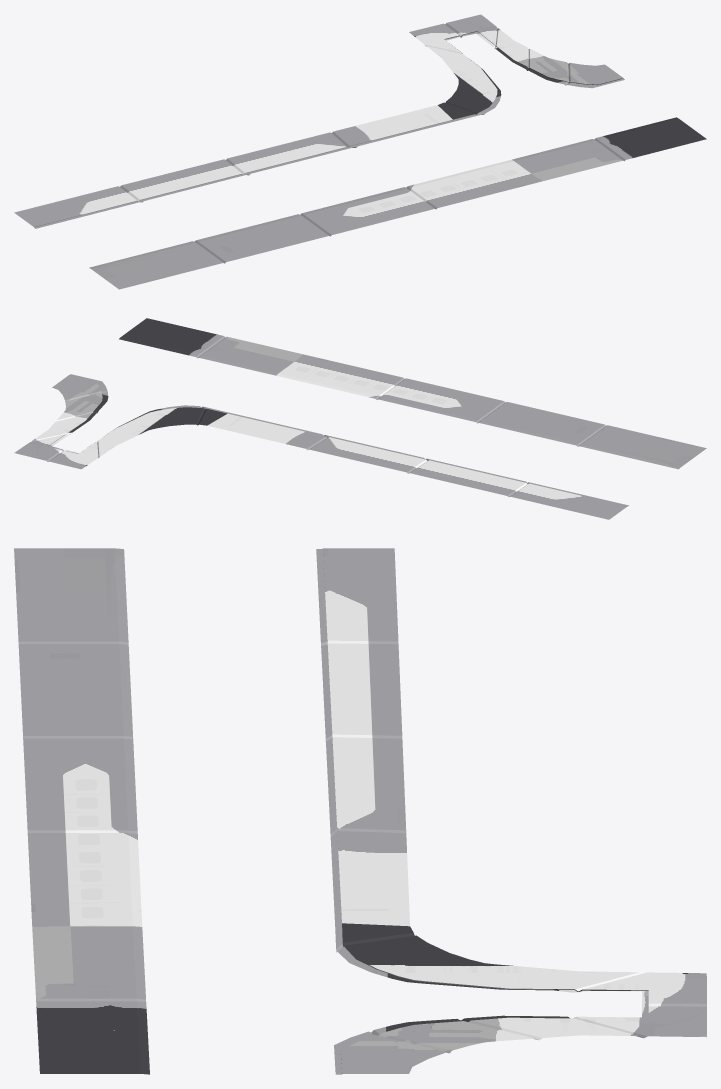
Rendered from Pavement.fbx.
The picture shows the model from 3 angles, top to bottom: view 1: azimuth 30°, elevation 25°; view 2: azimuth 150°, elevation 25°; view 3: azimuth 270°, elevation 25°; orthographic projection. The views are drawn at different scales.
Parts seen in each view (by area): view 1: Pavement; view 2: Pavement; view 3: Pavement.
Part boxes in pixels (x1,y1,x2,y2): Pavement: (14,14,706,289); Pavement: (14,318,706,519); Pavement: (14,548,706,1074).
Size of the model in its own units: 4920 by 12.35 by 2742.
